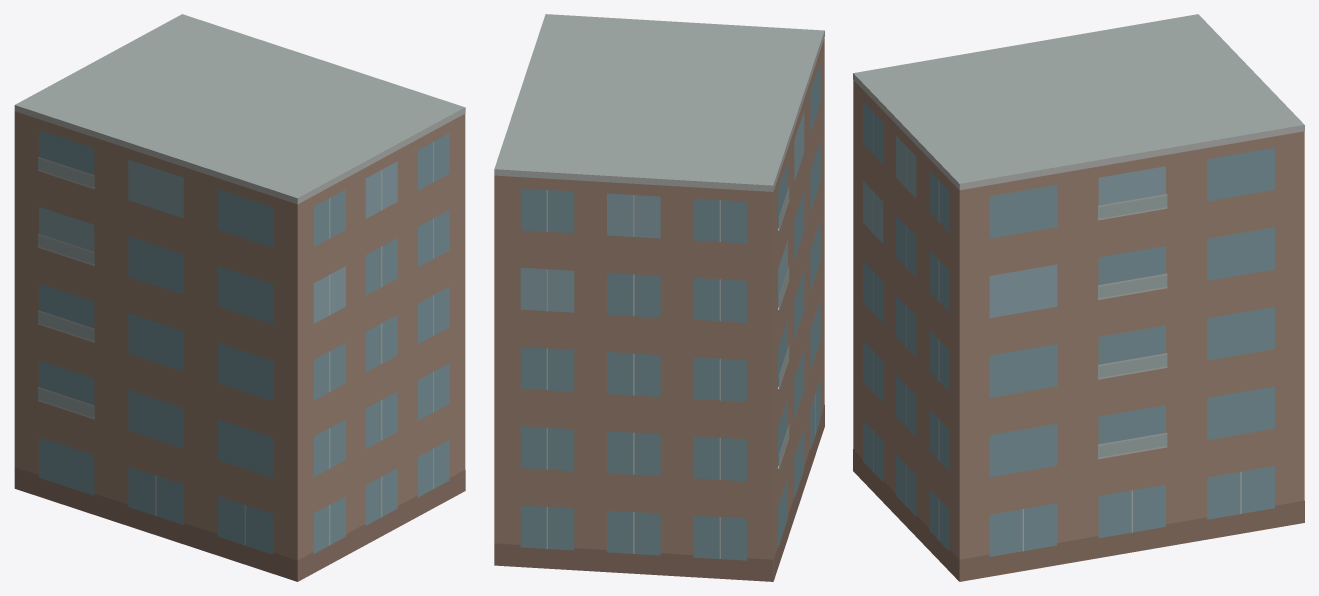
Rendered from residential-4fa5cc86-708d-4abf-b7da-3b20534798bd.glb.
3 views of the same model, side by side, from view 1: azimuth 30°, elevation 25°; view 2: azimuth 150°, elevation 25°; view 3: azimuth 270°, elevation 25° (orthographic). The views are drawn at different scales.
Visible parts, largest first — view 1: residential-4fa5cc86-708d-4abf-b7da-3b20534798bd.tmp; view 2: residential-4fa5cc86-708d-4abf-b7da-3b20534798bd.tmp; view 3: residential-4fa5cc86-708d-4abf-b7da-3b20534798bd.tmp.
Boxes of the visible parts, x1=… form: residential-4fa5cc86-708d-4abf-b7da-3b20534798bd.tmp: x1=14, y1=14, x2=465, y2=581; residential-4fa5cc86-708d-4abf-b7da-3b20534798bd.tmp: x1=494, y1=14, x2=824, y2=581; residential-4fa5cc86-708d-4abf-b7da-3b20534798bd.tmp: x1=853, y1=14, x2=1304, y2=581.
Bounding box in the file's own units: 13.98 × 15.25 × 15.7.
